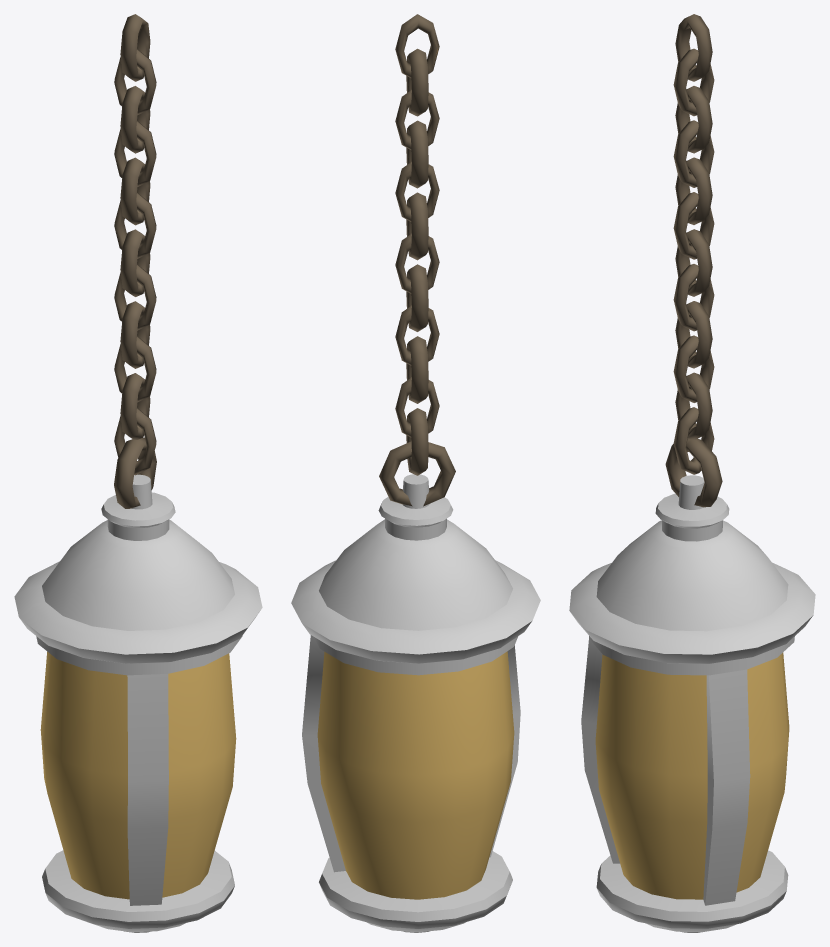
Rendered from Lantern.fbx.
3 views of the same model, side by side, from view 1: azimuth 30°, elevation 25°; view 2: azimuth 150°, elevation 25°; view 3: azimuth 270°, elevation 25° (orthographic).
Parts seen in each view (by area): view 1: Lantern, Lantern Glass; view 2: Lantern, Lantern Glass; view 3: Lantern, Lantern Glass.
Part boxes in pixels (left/top/right/bottom): Lantern: left=14, top=14, right=262, bottom=932; Lantern Glass: left=40, top=651, right=236, bottom=899; Lantern: left=291, top=14, right=540, bottom=932; Lantern Glass: left=317, top=651, right=514, bottom=899; Lantern: left=569, top=14, right=815, bottom=932; Lantern Glass: left=595, top=652, right=789, bottom=899.
Size of the model in its own units: 14.09 by 57.28 by 14.09.
